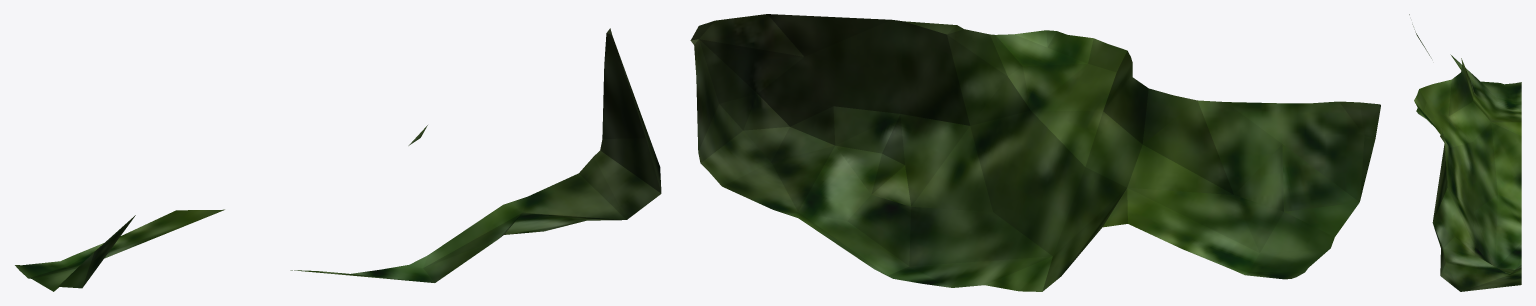
3 views of the same model, side by side, from view 1: azimuth 30°, elevation 25°; view 2: azimuth 150°, elevation 25°; view 3: azimuth 270°, elevation 25° (orthographic). The views are drawn at different scales.
Size of the model in its own units: 0.8308 by 0.2756 by 0.2137.
1 material, 1 textured.
